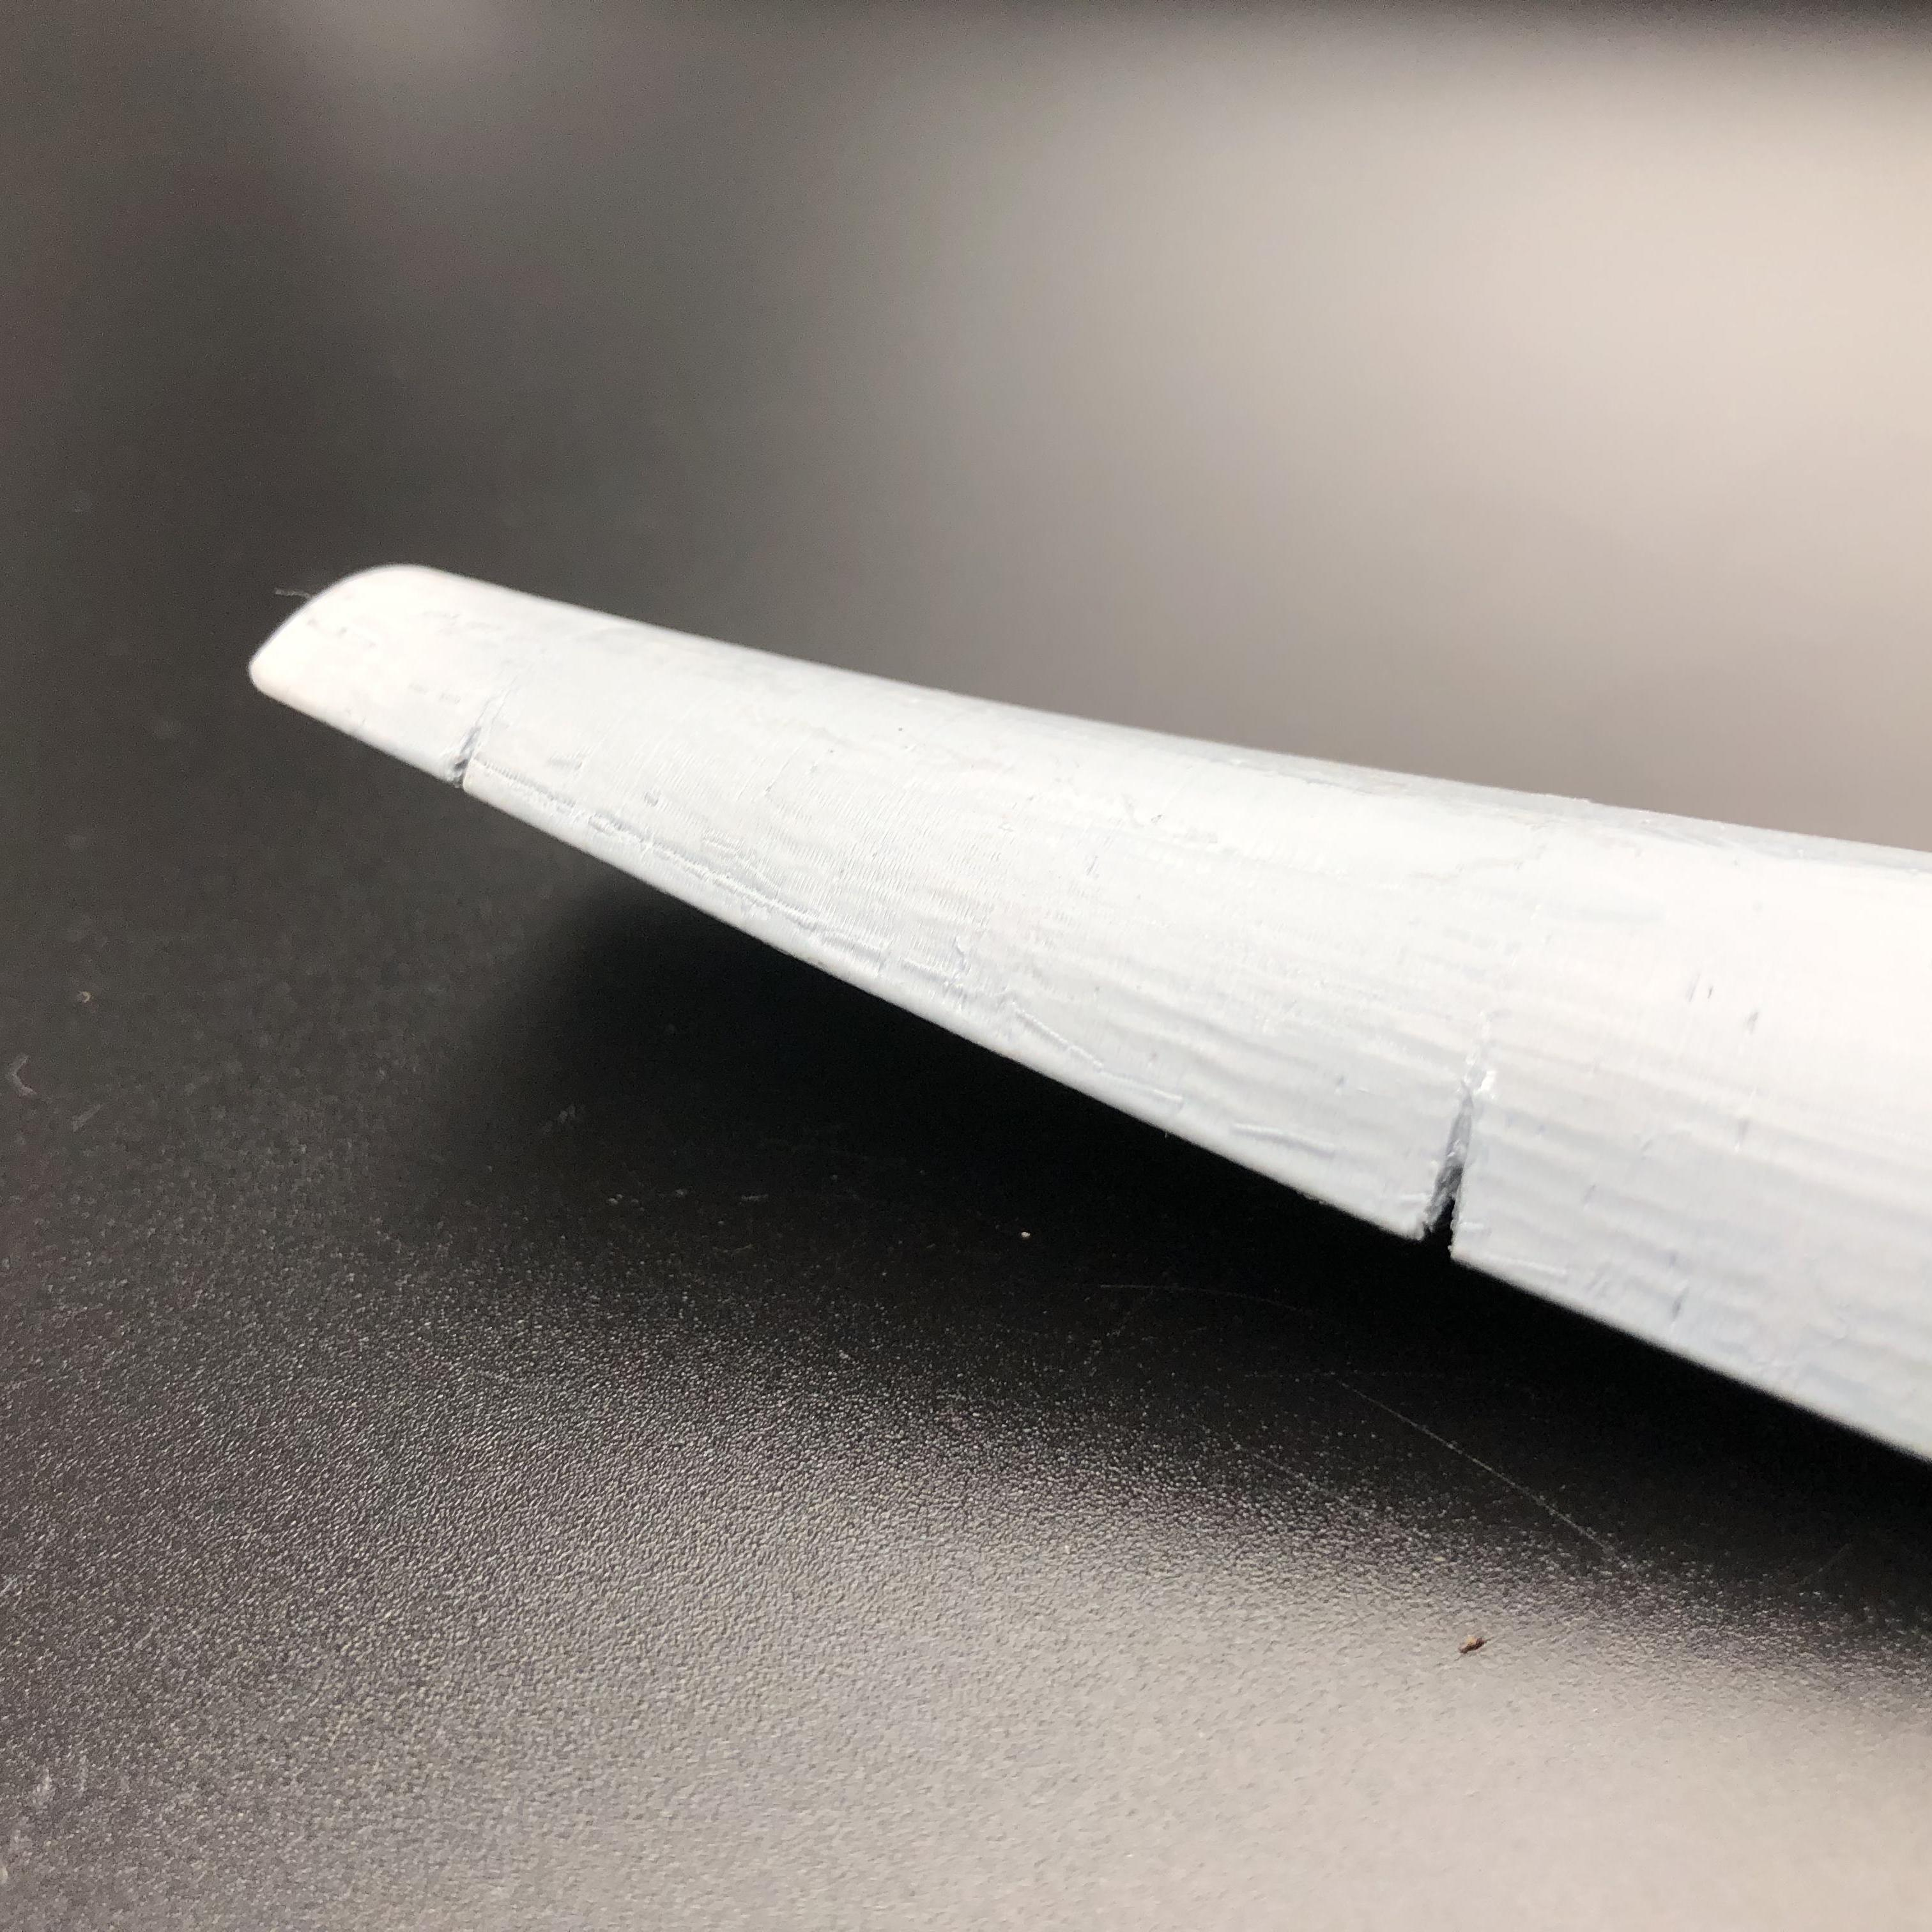groove: (1408, 1102, 1509, 1260), (446, 734, 495, 793)
